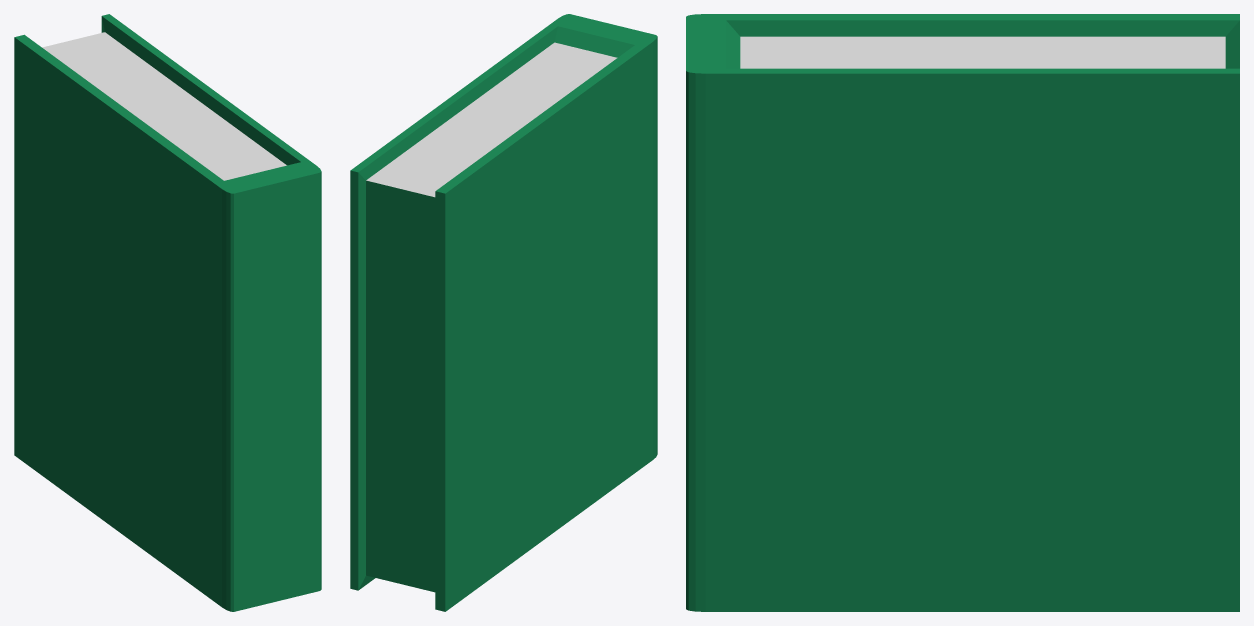
File: Prop_Biblioteca_Libro.fbx
The picture shows the model from 3 angles, left to right: view 1: azimuth 30°, elevation 25°; view 2: azimuth 150°, elevation 25°; view 3: azimuth 270°, elevation 25°; orthographic projection. The views are drawn at different scales.
Parts seen in each view (by area): view 1: Cube.011; view 2: Cube.011; view 3: Cube.011.
Part boxes in pixels (<box>): Cube.011: <box>14,14,321,611</box>; Cube.011: <box>350,14,657,611</box>; Cube.011: <box>686,14,1239,611</box>.
Bounding box in the file's own units: 116 × 490 × 457.
